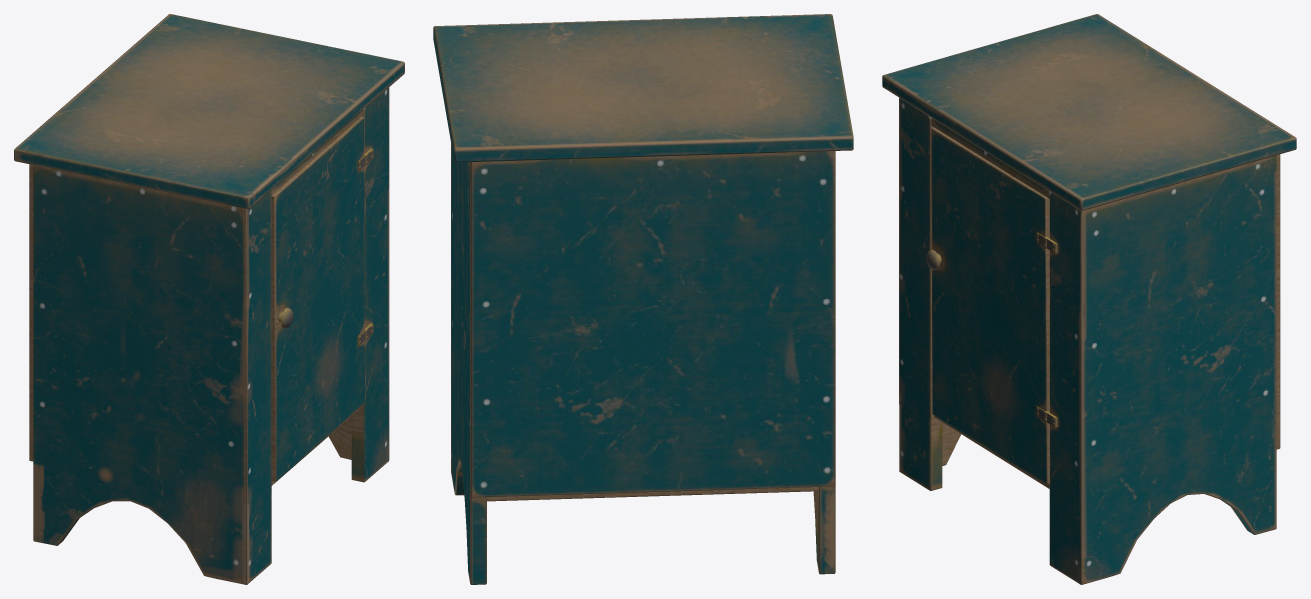
File: vintage_cupboard.glb
3 renders of one model, left to right at view 1: azimuth 30°, elevation 25°; view 2: azimuth 150°, elevation 25°; view 3: azimuth 270°, elevation 25°, orthographic. The views are drawn at different scales.
Parts seen in each view (by area): view 1: Object_2, Object_3; view 2: Object_2; view 3: Object_2, Object_3.
Part boxes in pixels (x1,y1,x2,y2): Object_2: [14, 14, 404, 584]; Object_3: [278, 148, 373, 346]; Object_2: [433, 14, 853, 584]; Object_2: [882, 14, 1296, 584]; Object_3: [926, 232, 1057, 427].
Size of the model in its own units: 2.96 by 2.92 by 2.79.
2 materials, 2 textured.
